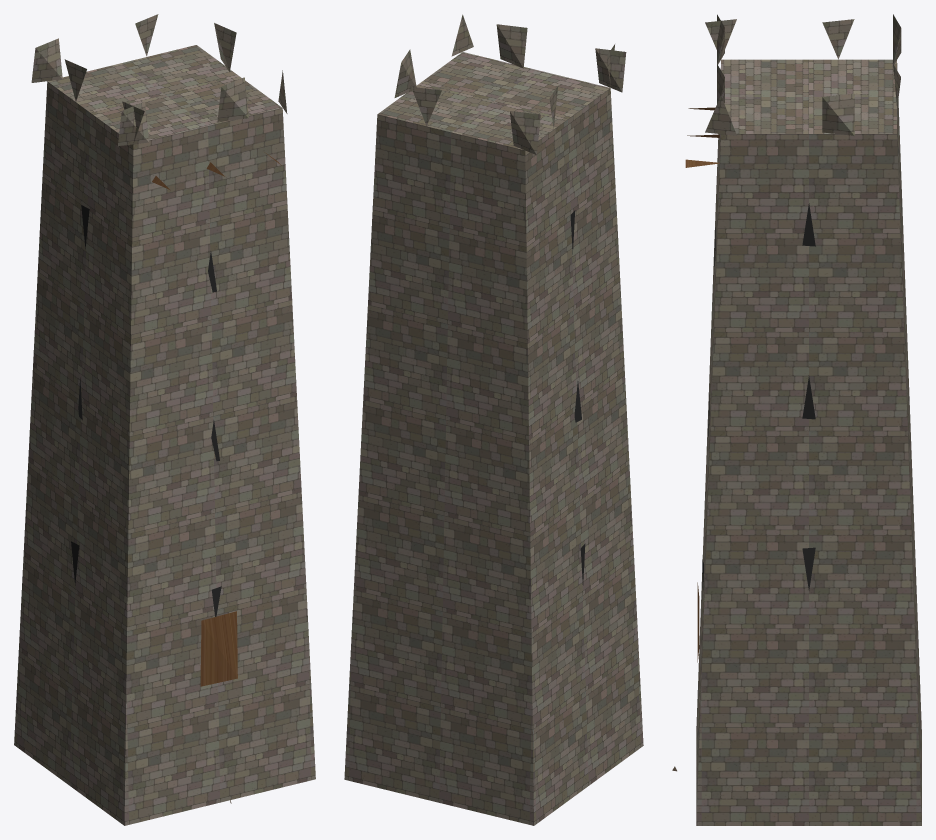
File: watch_tower_lod2.glb
3 views of the same model, side by side, from view 1: azimuth 30°, elevation 25°; view 2: azimuth 150°, elevation 25°; view 3: azimuth 270°, elevation 25° (orthographic). The views are drawn at different scales.
Parts seen in each view (by area): view 1: m; view 2: m; view 3: m.
Boxes of the visible parts, bbox=[...] form: m: bbox=[14, 14, 315, 825]; m: bbox=[344, 14, 643, 825]; m: bbox=[672, 14, 921, 825].
Bounding box in the file's own units: 4.2 × 14.8 × 4.65.
4 materials, 3 textured.
